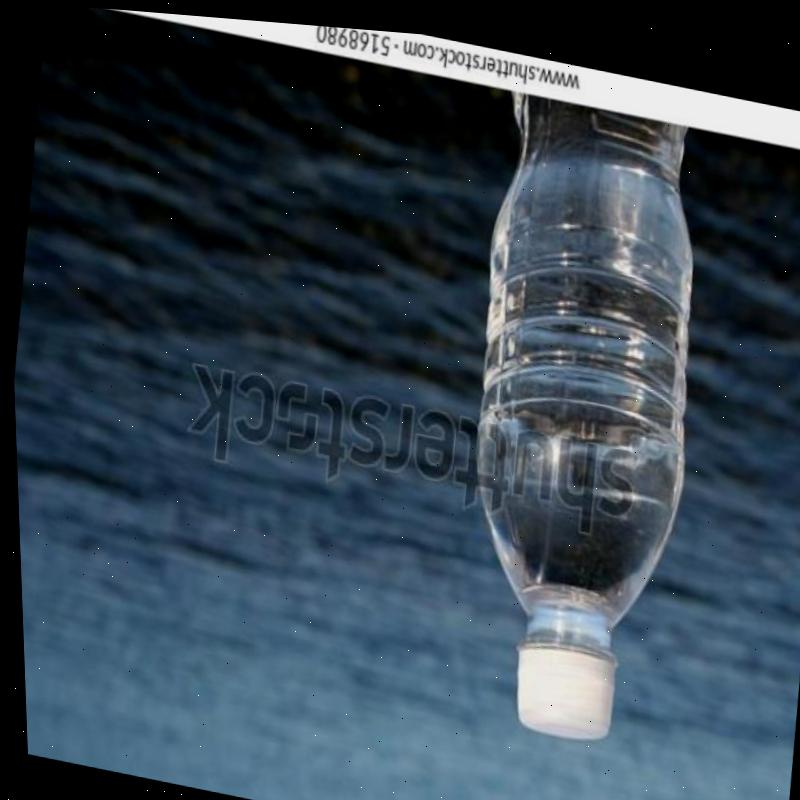botella: (426, 76, 731, 750)
